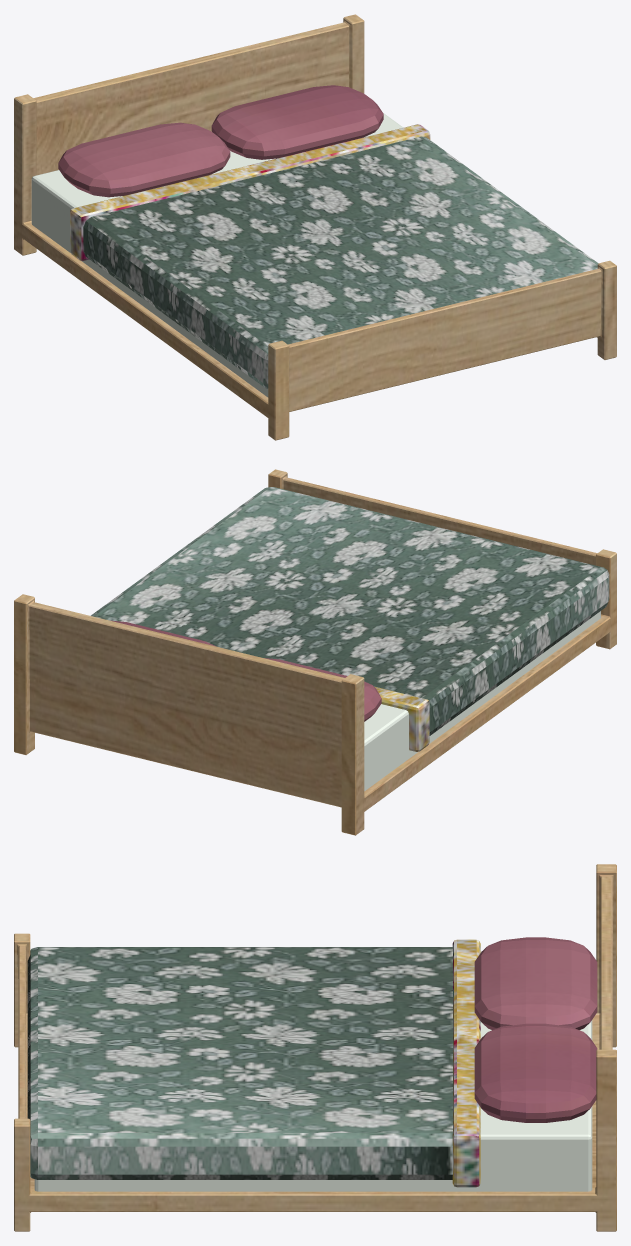
Rendered from adulte_lit.fbx.
3 views of the same model, one above another, from view 1: azimuth 30°, elevation 25°; view 2: azimuth 150°, elevation 25°; view 3: azimuth 270°, elevation 25° (orthographic). The views are drawn at different scales.
Parts seen in each view (by area): view 1: Bed double; view 2: Bed double; view 3: Bed double.
Part boxes in pixels (left/top/right/bottom): Bed double: left=14, top=14, right=616, bottom=440; Bed double: left=14, top=469, right=616, bottom=835; Bed double: left=14, top=864, right=616, bottom=1231.
Size of the model in its own units: 258 by 107 by 333.
Materials: 4 (3 with a texture image).
